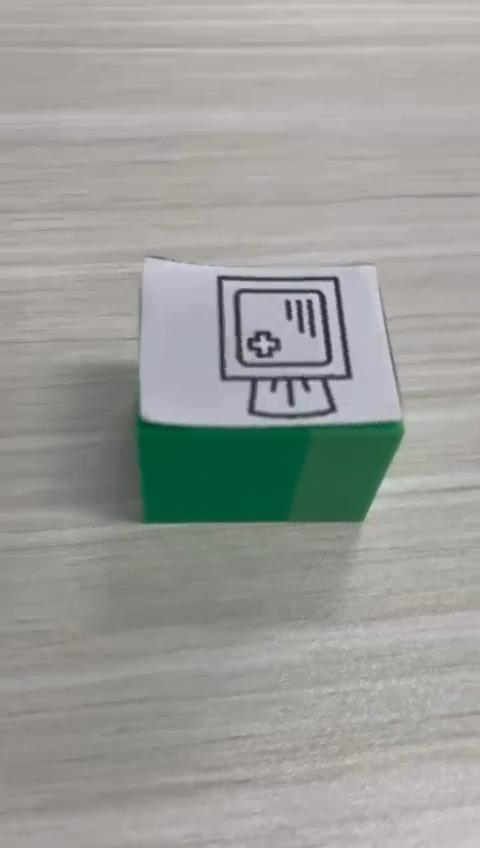Gauze: (134, 253, 405, 524)
